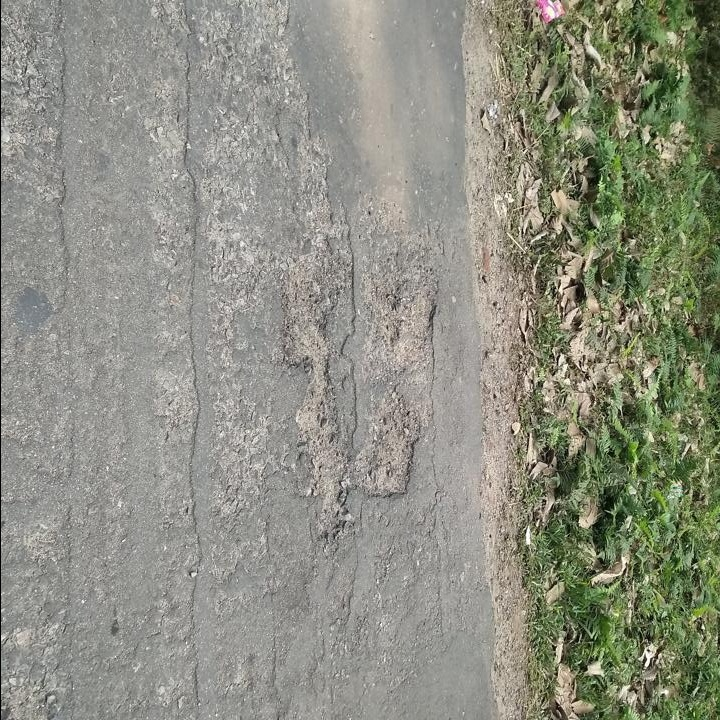pothole: (275, 233, 443, 548)
